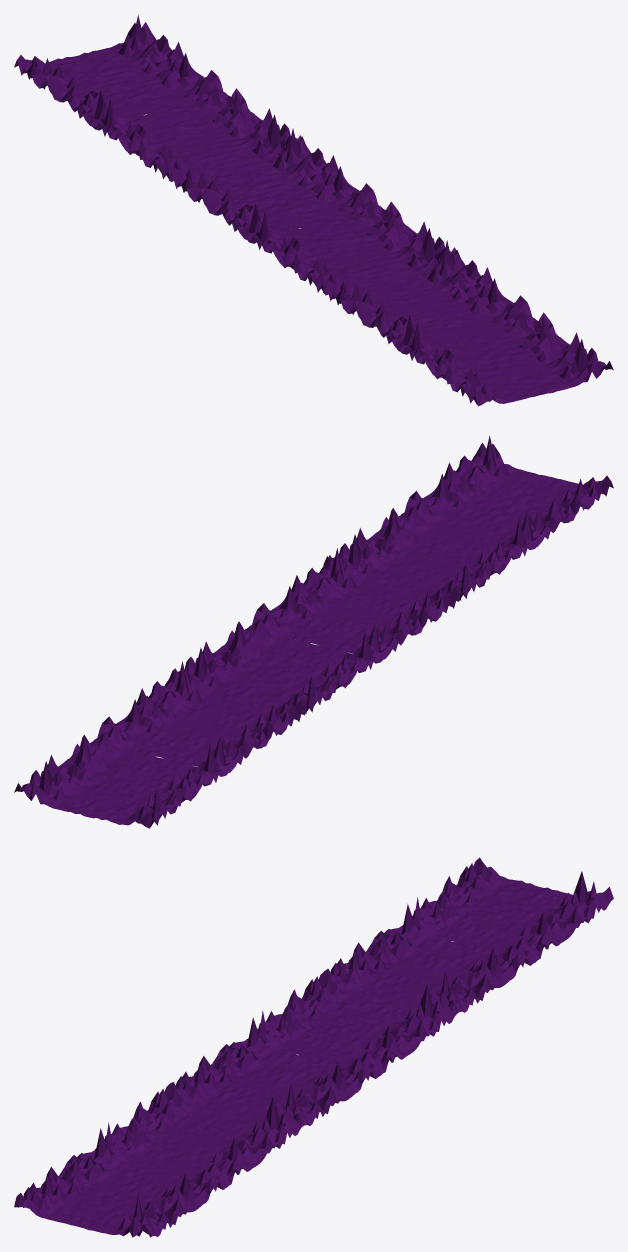
File: 80sstyleterrain.fbx
3 renders of one model, top to bottom at view 1: azimuth 30°, elevation 25°; view 2: azimuth 150°, elevation 25°; view 3: azimuth 330°, elevation 25°, orthographic.
Visible parts, largest first — view 1: Plane, Plane.002, Plane.001; view 2: Plane.002, Plane.001, Plane; view 3: Plane, Plane.002, Plane.001.
Boxes of the visible parts, left/top/right/bottom form: Plane: left=323, top=240, right=613, bottom=406; Plane.002: left=14, top=15, right=305, bottom=181; Plane.001: left=169, top=128, right=460, bottom=295; Plane.002: left=14, top=661, right=306, bottom=828; Plane.001: left=170, top=548, right=461, bottom=715; Plane: left=323, top=435, right=613, bottom=601; Plane: left=14, top=1083, right=304, bottom=1237; Plane.002: left=325, top=857, right=613, bottom=1013; Plane.001: left=171, top=971, right=458, bottom=1126.
Size of the model in its own units: 2099 by 563 by 12385.
